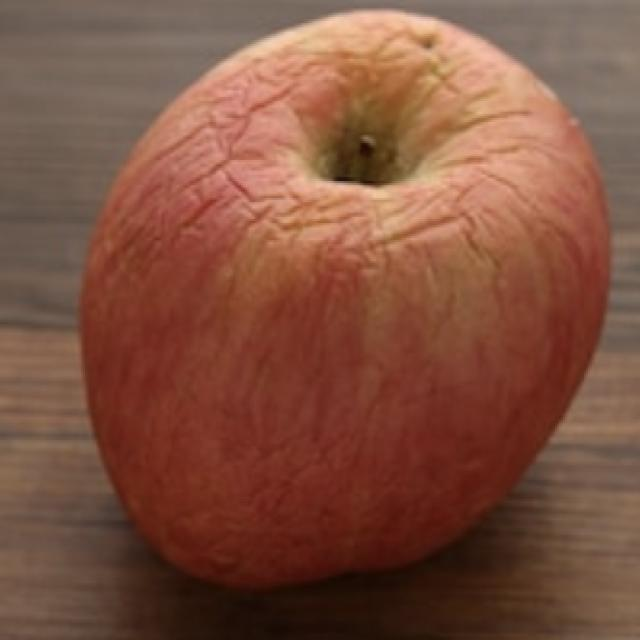Rotten: (73, 3, 617, 587)
